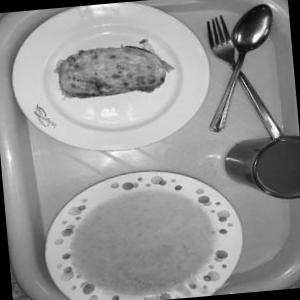cheese_sandwich: (46, 34, 178, 109)
coffee: (220, 119, 300, 215)
porridge: (61, 172, 222, 300)
